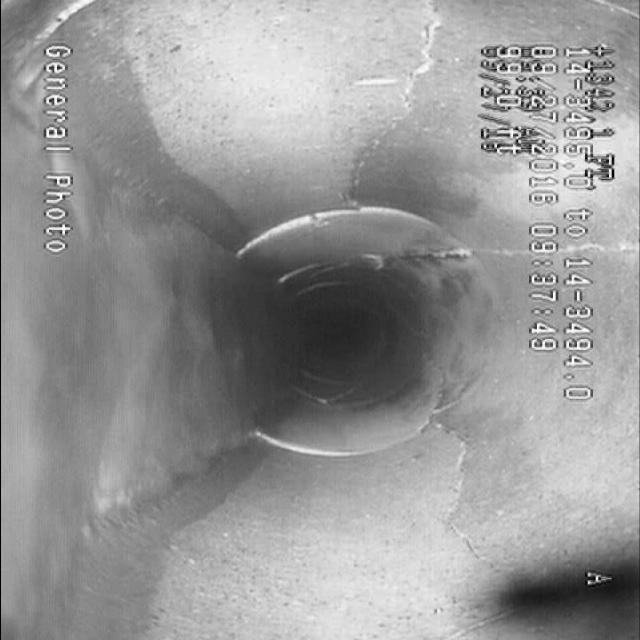Crack: (334, 20, 454, 193), (430, 422, 511, 582)
